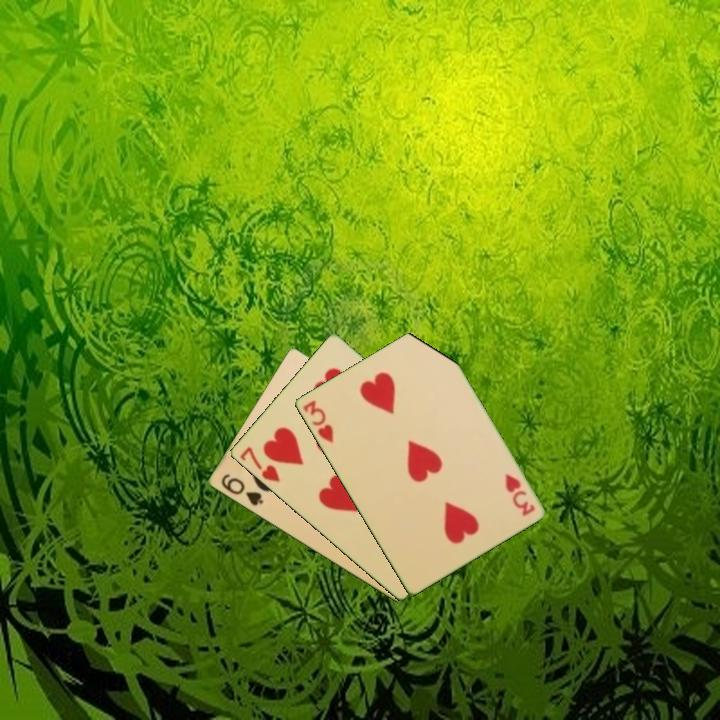3h: (299, 396, 336, 446), (501, 470, 537, 519)
6s: (217, 470, 266, 509)
7h: (236, 443, 282, 485)
